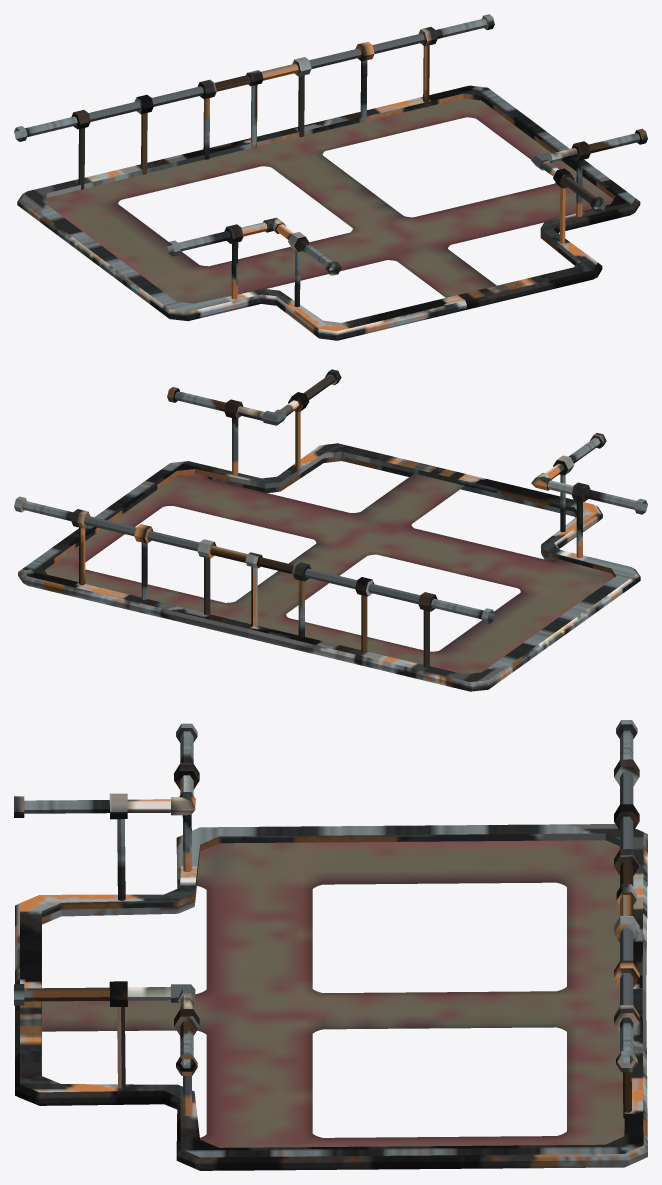
Rendered from T Walkway.fbx.
3 views of the same model, one above another, from view 1: azimuth 30°, elevation 25°; view 2: azimuth 150°, elevation 25°; view 3: azimuth 270°, elevation 25° (orthographic). The views are drawn at different scales.
Visible parts, largest first — view 1: T Walkway; view 2: T Walkway; view 3: T Walkway.
Boxes of the visible parts, box(x1,y1,x2,y2) form: T Walkway: box(14, 14, 647, 340); T Walkway: box(14, 369, 647, 691); T Walkway: box(14, 720, 647, 1170).
Size of the model in its own units: 500 by 86.77 by 404.
